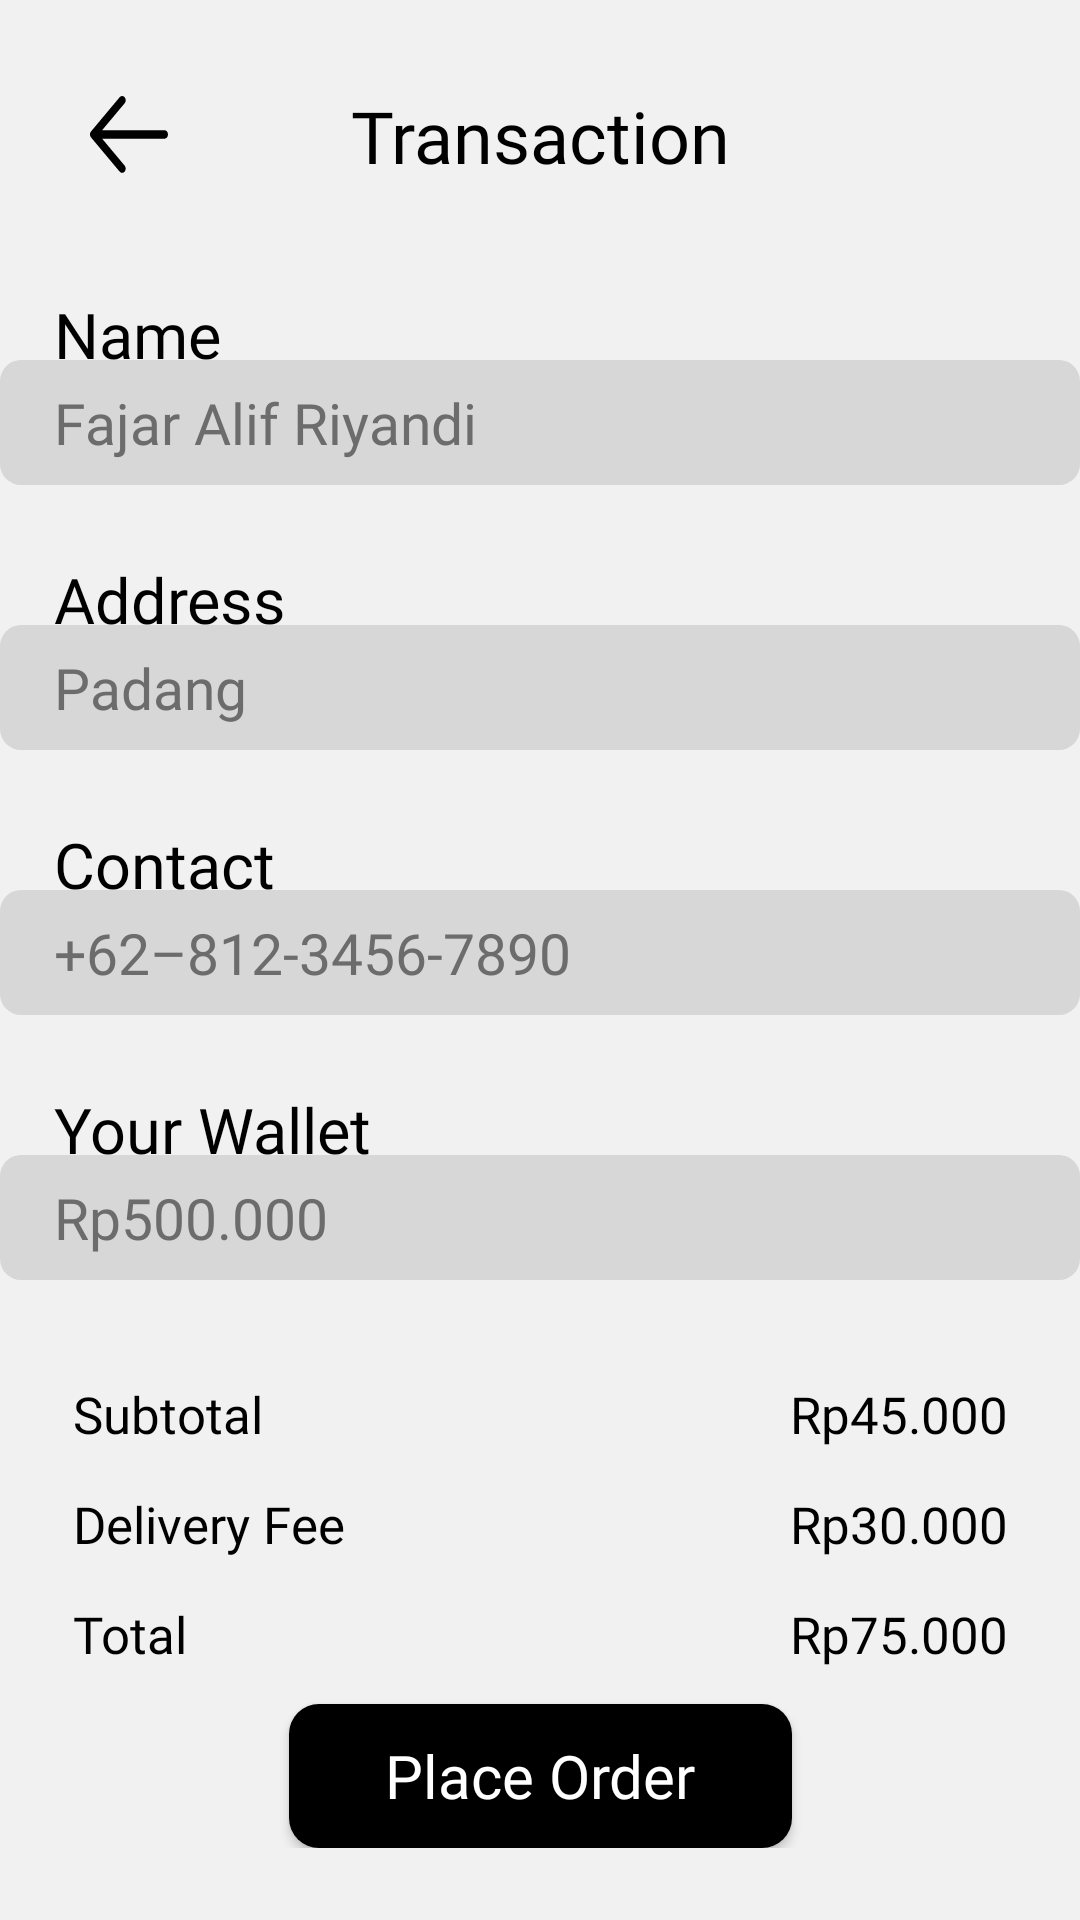

Named icons in this screenshot (1080*1920) and their bounding boxes, detection(x1, y1, x2, y2):
arrow: detection(90, 96, 168, 173)
